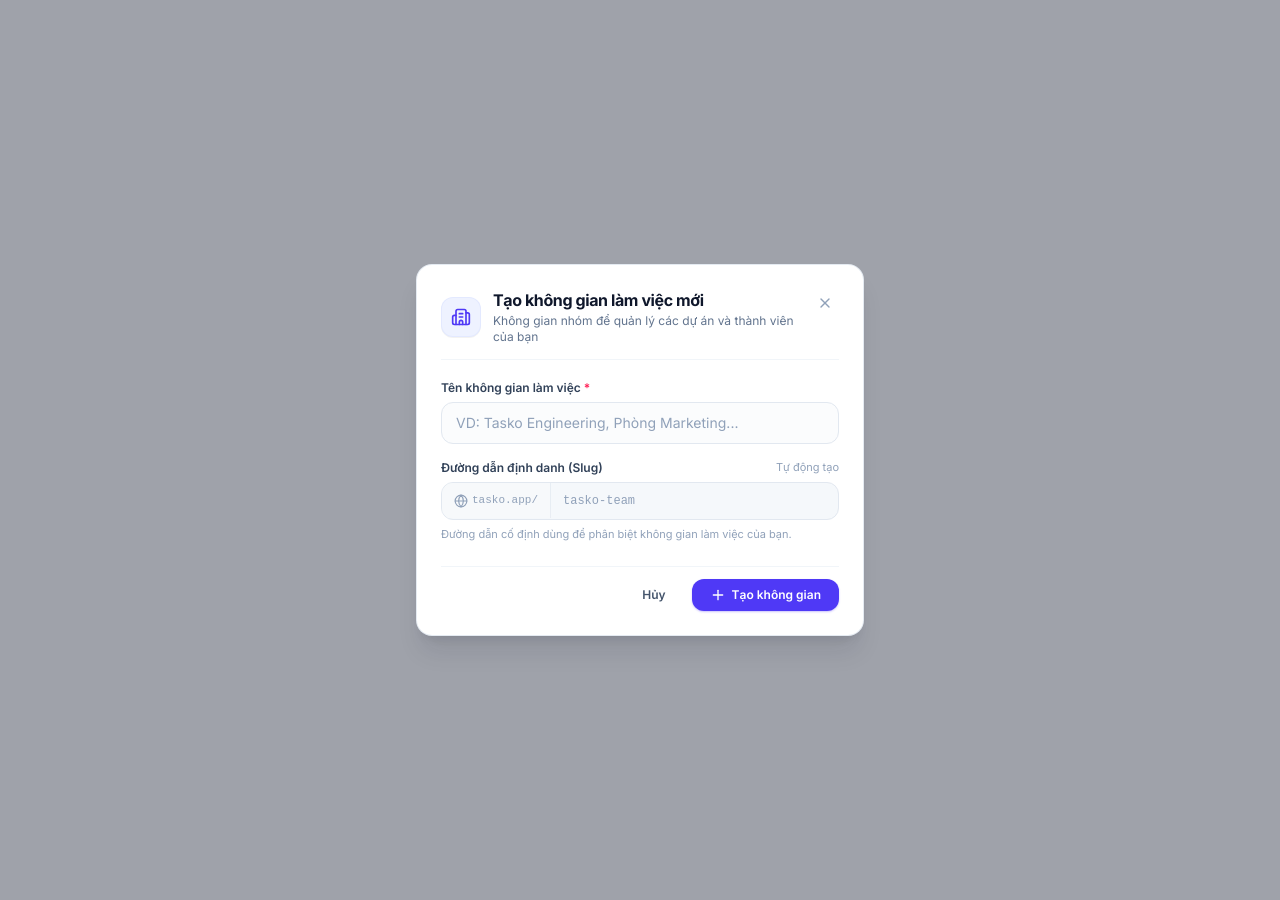
it: CreateWorkspaceModal - Frontend Unit Tests › tự động chuẩn hóa tiếng Việt thành slug URL sạch khi người dùng gõ tên
Type "Công Ty Phần Mềm Á Châu" into the field with placeholder "VD: Tasko Engineering, Phòng Marketing..." at (640, 423), box [441, 402, 839, 444]
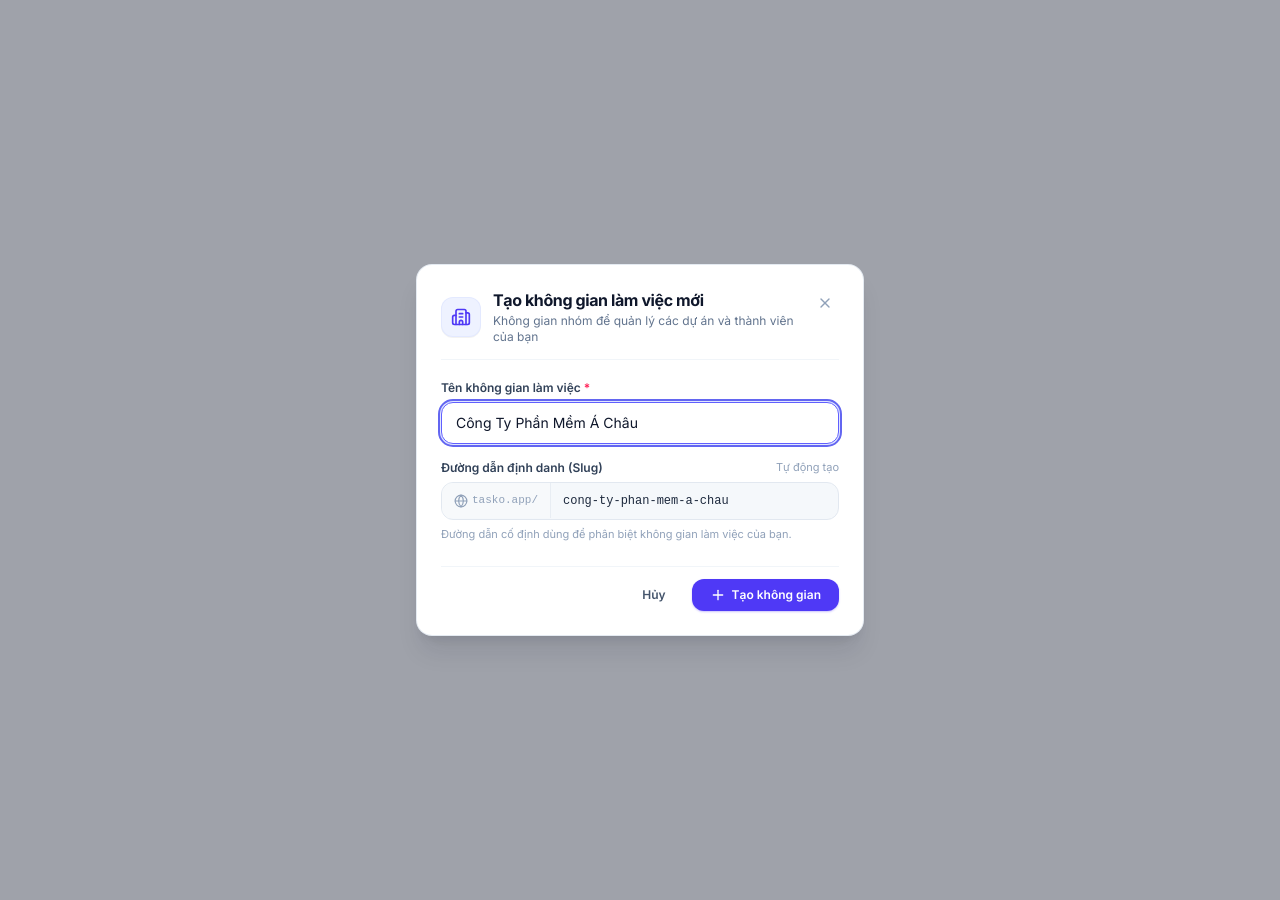
Result: the field with placeholder "tasko-team" holds "cong-ty-phan-mem-a-chau" at [551, 483, 838, 519]
